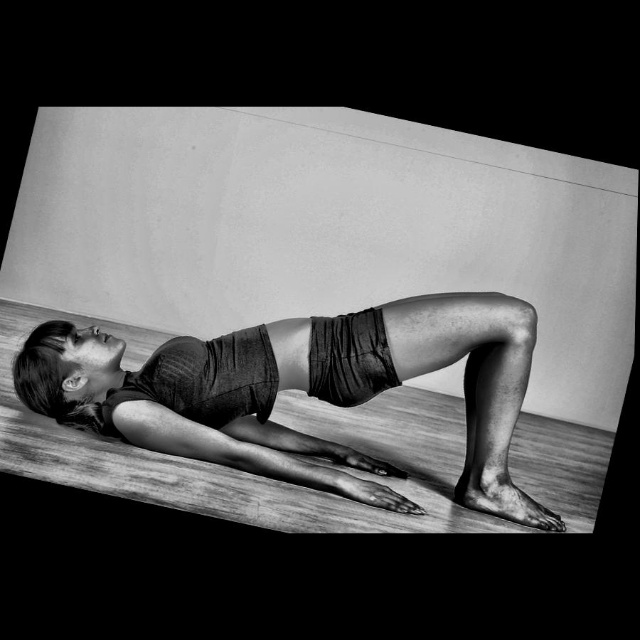Bridge_Pose: (7, 287, 576, 536)
